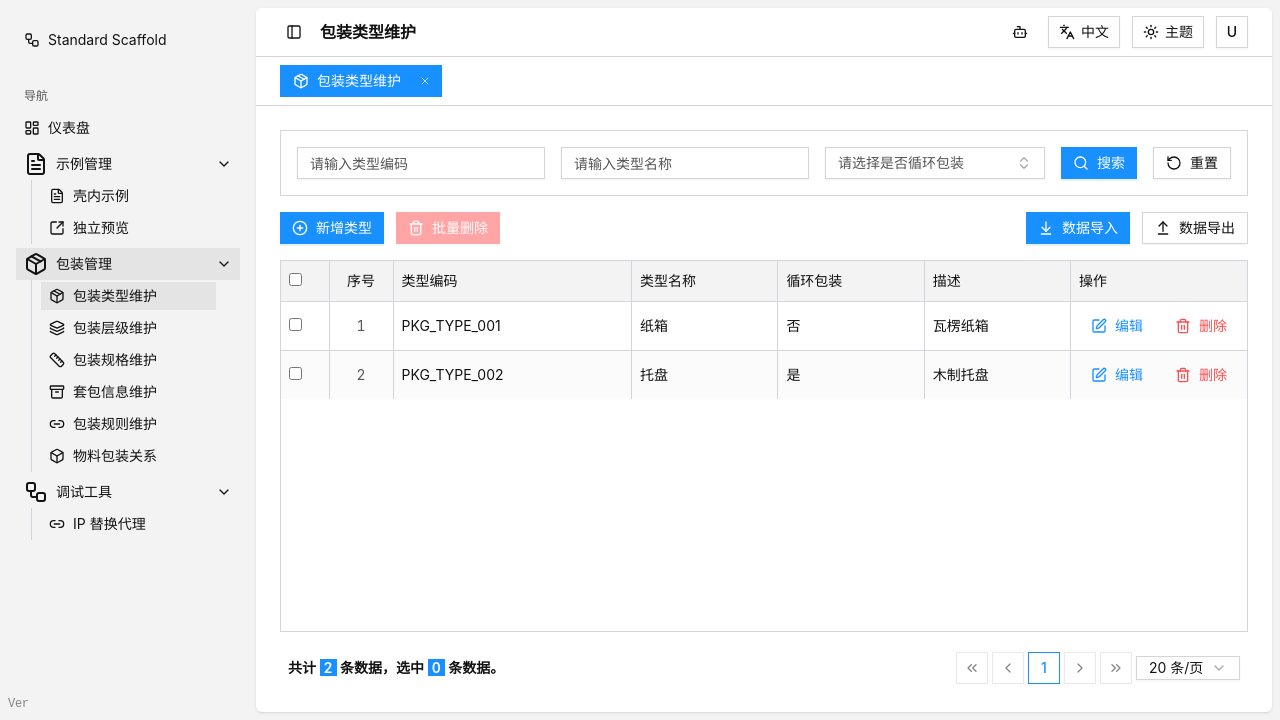
Test case: PackagingTypePage › opens template configuration without closing the import dialog
Expected: the text "纸箱" is shown, [632, 301, 778, 350]
Click the button "数据导入".
click(1078, 228)  # box [1026, 212, 1130, 244]
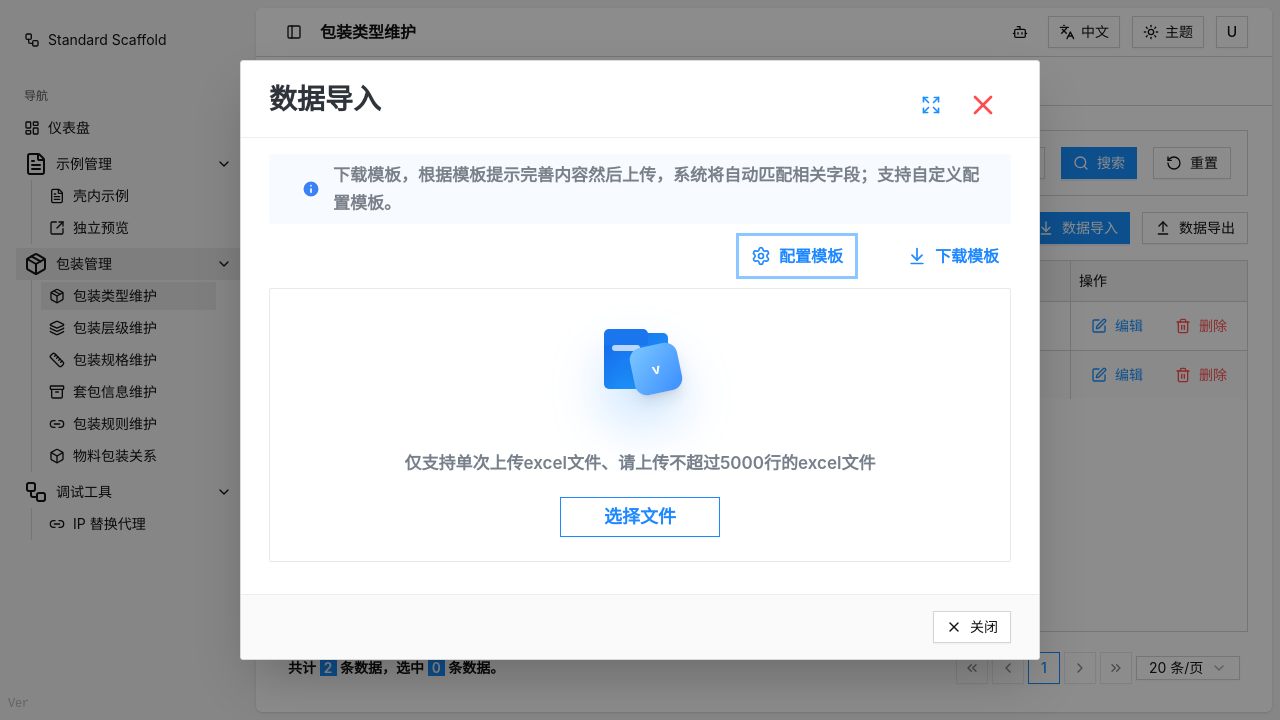
Click the button "配置模板".
click(797, 256)  # box [739, 236, 855, 276]
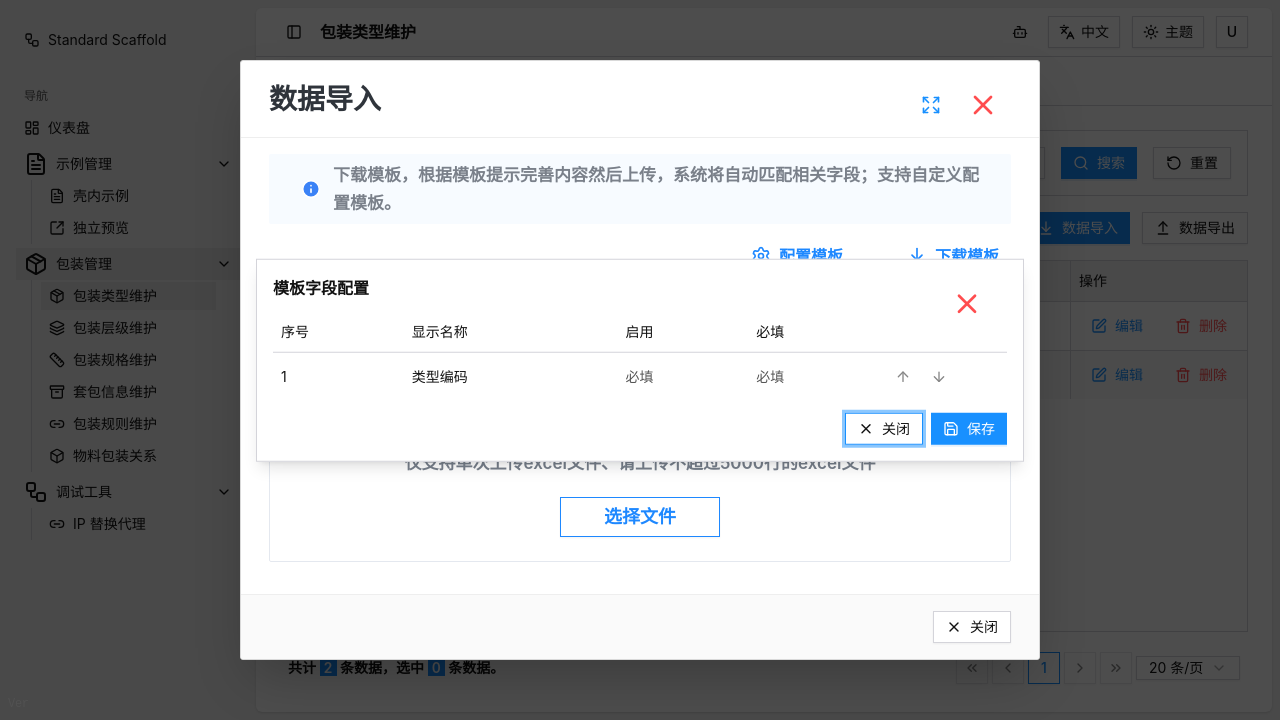
Expected: the dialog with test id "data-import-dialog" is shown, [240, 60, 1040, 660]
Expected: the dialog with test id "data-import-template-dialog" is shown, [256, 259, 1024, 461]
